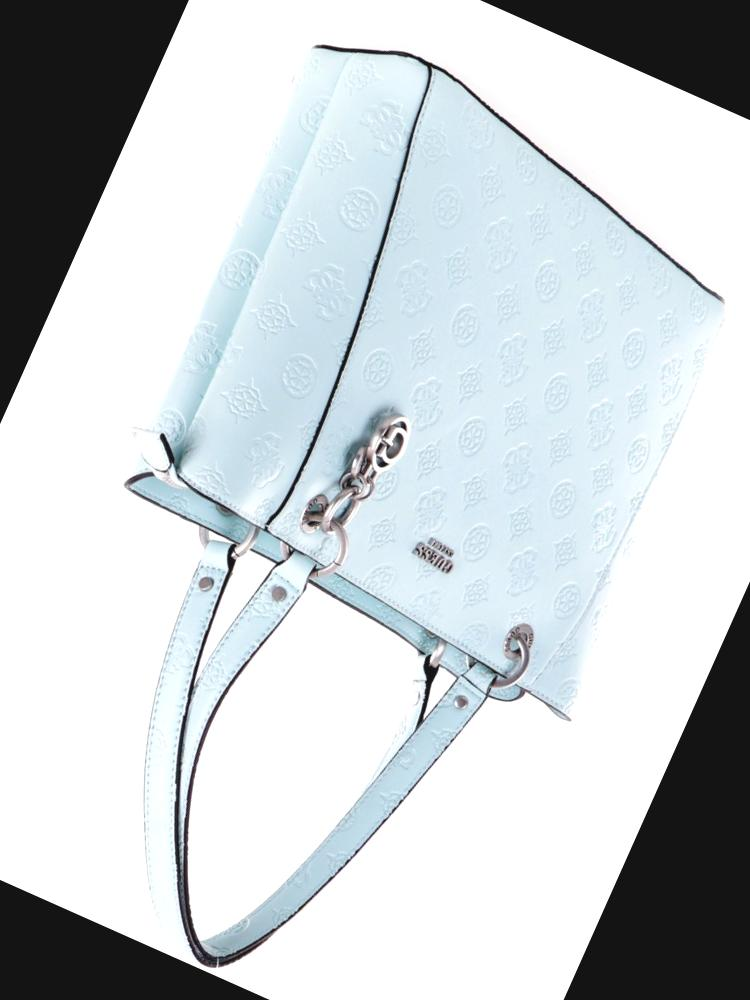GUESS: (408, 539, 456, 576)
